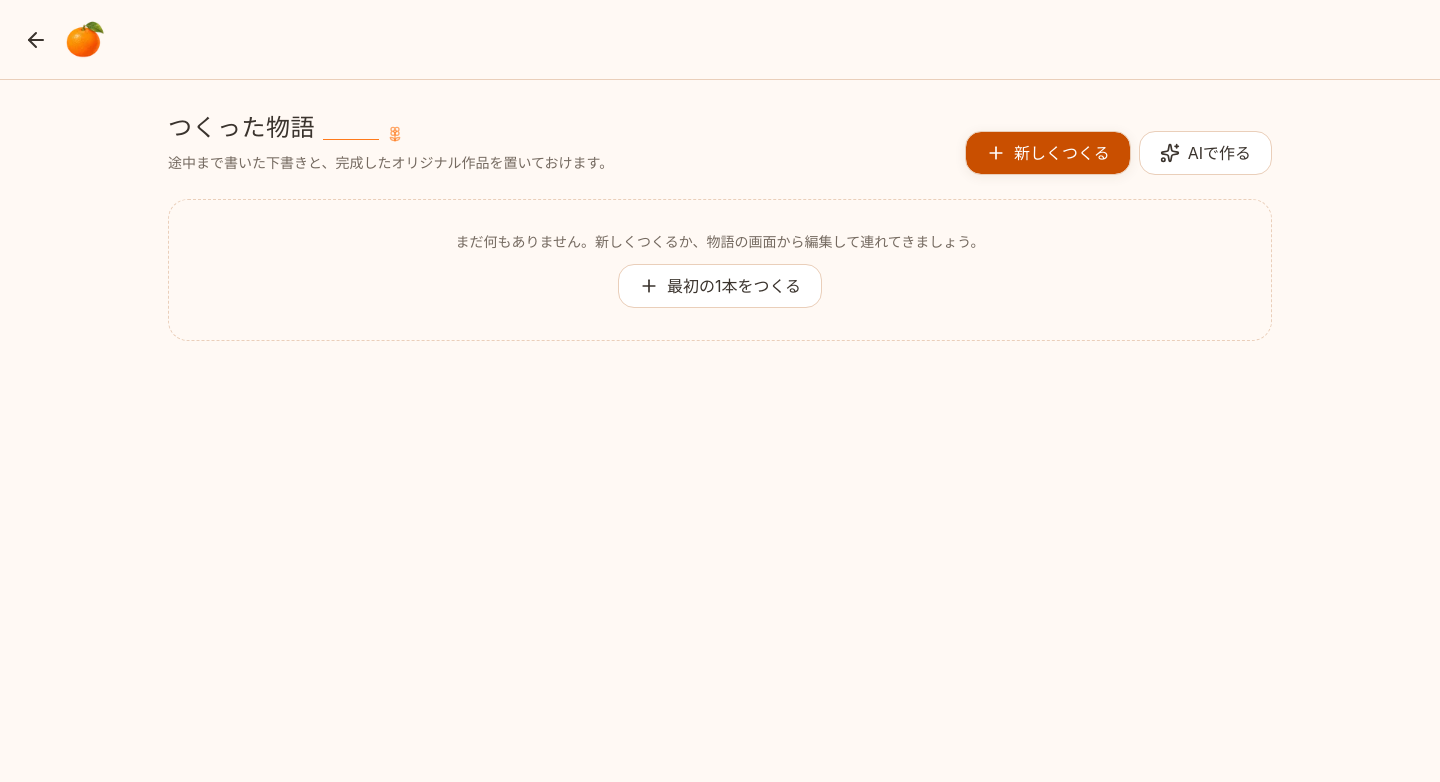
Test: PackAuthoringScreen › 置き場から新規作成して編集画面へ進める
Expected: the element named "シナリオをつくる" is shown, 0,0 -> 1439,373
Expected: the heading "つくった物語" is shown, 168,112 -> 315,144
Click the button "新しくつくる": (1048, 153) 965,131 -> 1131,175
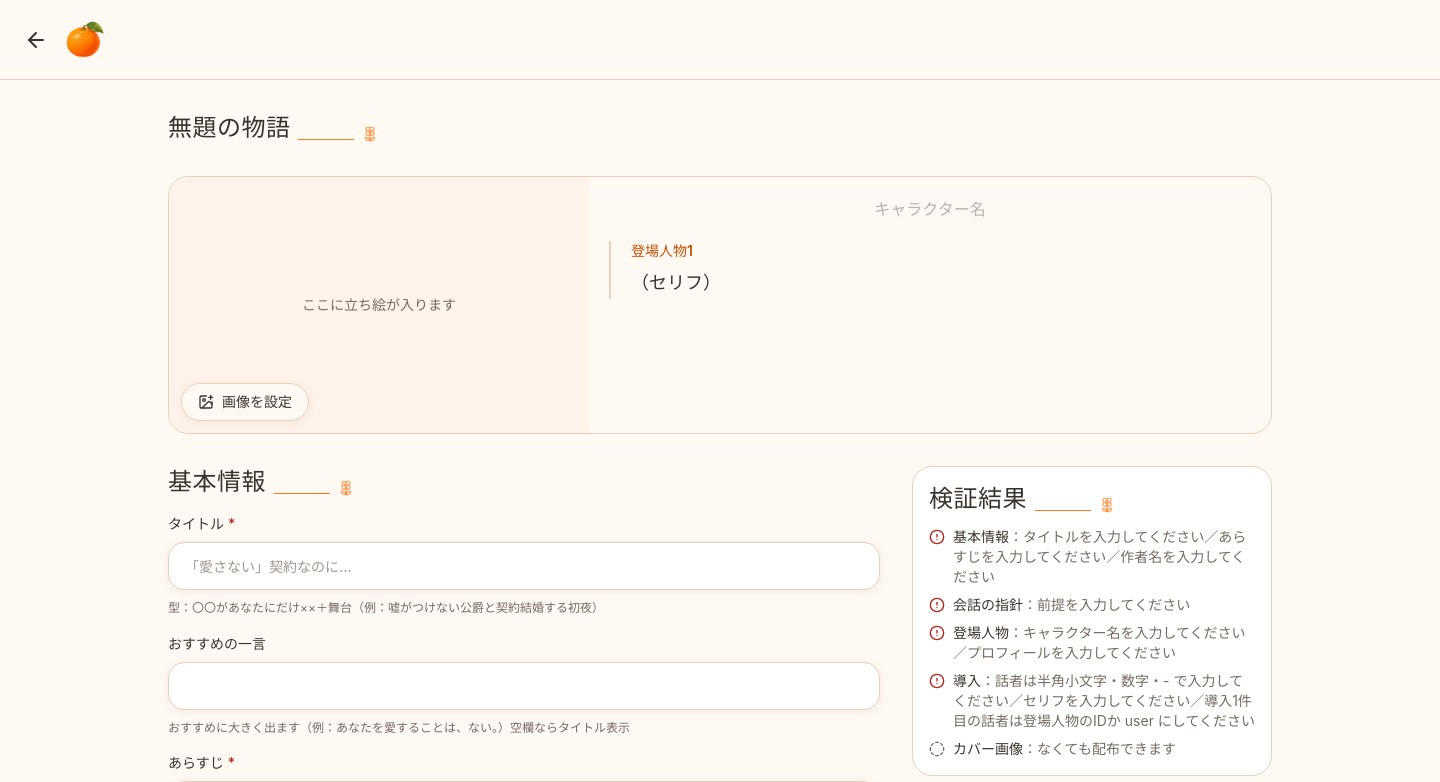
Now the field named "主人公の名前" is shown, box 609,197 -> 1251,221
Now the text "タイトルを入力してください" is shown, box 953,528 -> 1246,585
